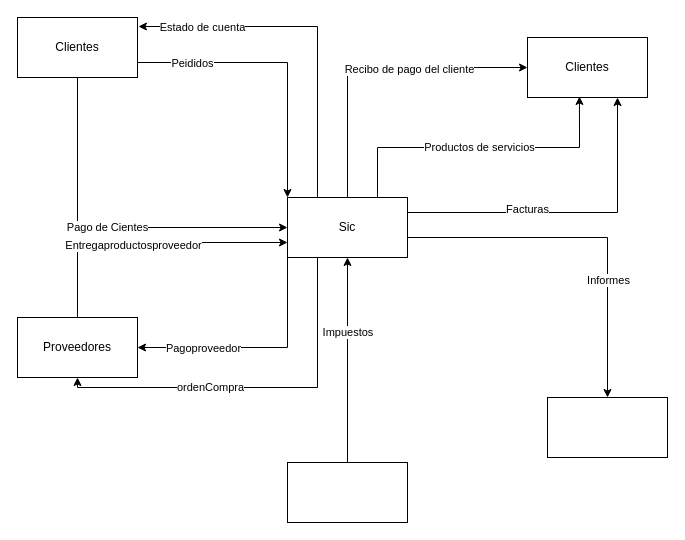
Image size: 685x540. Some labels were removed from this diagram. The centre of each missing label's shape, as x and y in pixels:
(SAT): pixel 347 492
Gerencia: pixel 607 427
